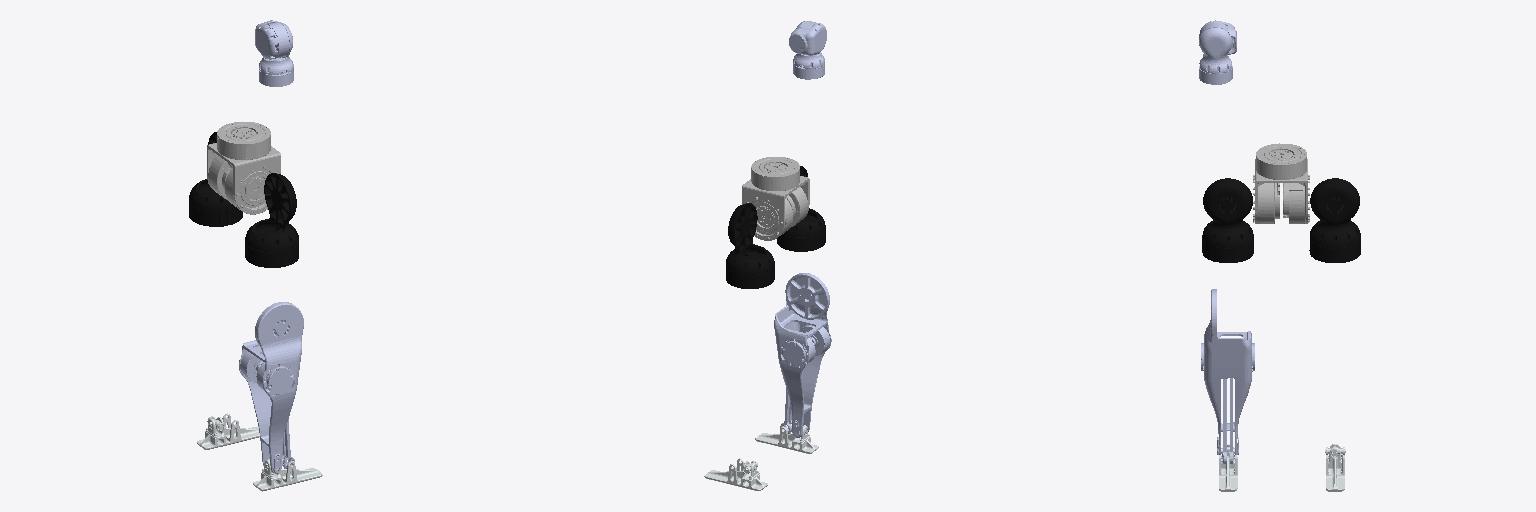
The robot description file, URDF, robot "q2":
<?xml version="1.0" encoding="utf-8"?>
<!-- This URDF was automatically created by SolidWorks to URDF Exporter! Originally created by [author] ([email redacted]) 
     Commit Version: 1.6.0-4-g7f85cfe  Build Version: 1.6.7995.38578
     For more information, please see http://wiki.ros.org/sw_urdf_exporter -->

<robot name="q2">
  <mujoco>
    <compiler meshdir="meshes" discardvisual="false" balanceinertia= "true"/>
  </mujoco>
    <!-- [CAUTION] uncomment when convert to mujoco -->
  <!-- <link name="world"></link>
    <joint name="floating_base_joint" type="floating">
      <parent link="world"/>
      <child link="pelvis"/>
    </joint> -->
  
  <link name="pelvis">
    <inertial>
      <origin xyz="0.0000000 0.0000000 -0.0377830" rpy="0 0 0" />
      <mass value="5.0175069" />
      <inertia ixx="0.0180892" ixy="-0.0000001" ixz="0.0000000" iyy="0.0164150" iyz="0.0000000" izz="0.0108703" />
    </inertial>
    <visual>
      <origin xyz="0 0 0" rpy="0 0 0" />
      <geometry>
        <mesh filename="meshes/pelvis.STL" />
      </geometry>
      <material name="">
        <color rgba="0.75294 0.75294 0.75294 1" />
      </material>
    </visual>
    <collision>
      <origin xyz="0 0 0" rpy="0 0 0" />
      <geometry>
        <mesh filename="meshes/pelvis.STL" />
      </geometry>
    </collision>
  </link>
  <link name="left_hip_pitch_link">
    <inertial>
      <origin xyz="-0.0161091 0.0642172 0.0000000" rpy="0 0 0" />
      <mass value="1.871603" />
      <inertia ixx="0.0035823" ixy="0.0000353" ixz="-0.0000001" iyy="0.0021368" iyz="-0.0000023" izz="0.0024927" />
    </inertial>
    <visual>
      <origin xyz="0 0 0" rpy="0 0 0" />
      <geometry>
        <mesh filename="meshes/left_hip_pitch_link.STL" />
      </geometry>
      <material name="">
        <color rgba="0.89804 0.91765 0.92941 1" />
      </material>
    </visual>
    <collision>
      <origin xyz="0 0 0" rpy="0 0 0" />
      <geometry>
        <mesh filename="meshes/left_hip_pitch_link.STL" />
      </geometry>
    </collision>
  </link>
  <joint name="left_hip_pitch_joint" type="revolute">
    <origin xyz="0 0.056 -0.0685" rpy="0 0 0" />
    <parent link="pelvis" />
    <child link="left_hip_pitch_link" />
    <axis xyz="0 1 0" />
    <limit lower="-2.35" upper="2.35" effort="88" velocity="30" />
  </joint>
  <link name="left_hip_roll_link">
    <inertial>
      <origin xyz="-0.0070439 -0.0000032 -0.0909871" rpy="0 0 0" />
      <mass value="2.1194499" />
      <inertia ixx="0.0063862" ixy="0.0000000" ixz="-0.0009050" iyy="0.0063266" iyz="0.0000001" izz="0.0036912" />
    </inertial>
    <visual>
      <origin xyz="0 0 0" rpy="0 0 0" />
      <geometry>
        <mesh filename="meshes/left_hip_roll_link.STL" />
      </geometry>
      <material name="">
        <color rgba="0.11373 0.11373 0.11373 1" />
      </material>
    </visual>
    <!-- <collision>
      <origin
        xyz="0 0 0"
        rpy="0 0 0" />
      <geometry>
        <mesh
          filename="meshes/left_hip_roll_link.STL" />
      </geometry>
    </collision> -->
    
  </link>
  <joint name="left_hip_roll_joint" type="revolute">
    <origin xyz="0.012 0.069 0" rpy="0 0 0" />
    <parent link="left_hip_pitch_link" />
    <child link="left_hip_roll_link" />
    <axis xyz="1 0 0" />
    <limit lower="-0.43" upper="2.9" effort="88" velocity="30" />
  </joint>
  <link name="left_hip_yaw_link">
    <inertial>
      <origin xyz="0.0030582 -0.0028146 -0.1280729" rpy="0 0 0" />
      <mass value="2.4878491" />
      <inertia ixx="0.0107399" ixy="0.0000195" ixz="-0.0002983" iyy="0.0117862" iyz="-0.0001408" izz="0.0038670" />
    </inertial>
    <visual>
      <origin xyz="0 0 0" rpy="0 0 0" />
      <geometry>
        <mesh filename="meshes/left_hip_yaw_link.STL" />
      </geometry>
      <material name="">
        <color rgba="0.89804 0.91765 0.92941 1" />
      </material>
    </visual>
    <collision>
      <origin xyz="0 0 0" rpy="0 0 0" />
      <geometry>
        <mesh filename="meshes/left_hip_yaw_link.STL" />
      </geometry>
    </collision>
  </link>
  <joint name="left_hip_yaw_joint" type="revolute">
    <origin xyz="-0.012 0 -0.1395" rpy="0 0 0" />
    <parent link="left_hip_roll_link" />
    <child link="left_hip_yaw_link" />
    <axis xyz="0 0 1" />
    <limit lower="-2.8" upper="2.8" effort="88" velocity="30" />
  </joint>
  <link name="left_knee_link">
    <inertial>
      <origin xyz="0.0016871 -0.0202758 -0.1209121" rpy="0 0 0" />
      <mass value="2.1687705" />
      <inertia ixx="0.0161842" ixy="0.0000620" ixz="0.0003116" iyy="0.0144942" iyz="-0.0012327" izz="0.0039929" />
    </inertial>
    <visual>
      <origin xyz="0 0 0" rpy="0 0 0" />
      <geometry>
        <mesh filename="meshes/left_knee_link.STL" />
      </geometry>
      <material name="">
        <color rgba="0.79216 0.81961 0.93333 1" />
      </material>
    </visual>
    <!-- <collision>
      <origin
        xyz="0 0 0"
        rpy="0 0 0" />
      <geometry>
        <mesh
          filename="meshes/left_knee_link.STL" />
      </geometry>
    </collision> -->
    
  </link>
  <joint name="left_knee_joint" type="revolute">
    <origin xyz="0 0.0255 -0.1605" rpy="0 0 0" />
    <parent link="left_hip_yaw_link" />
    <child link="left_knee_link" />
    <axis xyz="0 1 0" />
    <limit lower="-0.26" upper="2.05" effort="100" velocity="30" />
  </joint>
  <link name="left_ankle_pitch_link">
    <inertial>
      <origin xyz="0.0000000 0.0000000 0.0000279" rpy="0 0 0" />
      <mass value="0.0312897" />
      <inertia ixx="0.0000068" ixy="0.0000000" ixz="0.0000000" iyy="0.0000016" iyz="0.0000000" izz="0.0000073" />
    </inertial>
    <visual>
      <origin xyz="0 0 0" rpy="0 0 0" />
      <geometry>
        <mesh filename="meshes/left_ankle_pitch_link.STL" />
      </geometry>
      <material name="">
        <color rgba="0.89804 0.91765 0.92941 1" />
      </material>
    </visual>
    <collision>
      <origin xyz="0 0 0" rpy="0 0 0" />
      <geometry>
        <mesh filename="meshes/left_ankle_pitch_link.STL" />
      </geometry>
    </collision>
  </link>
  <joint name="left_ankle_pitch_joint" type="revolute">
    <origin xyz="0 -0.0255 -0.35" rpy="0 0 0" />
    <parent link="left_knee_link" />
    <child link="left_ankle_pitch_link" />
    <axis xyz="0 1 0" />
    <limit lower="-0.6" upper="0.5" effort="15" velocity="30" />
  </joint>
  <link name="left_ankle_roll_link">
    <inertial>
      <origin xyz="0.0300502 0.0000000 -0.0348065" rpy="0 0 0" />
      <mass value="0.445514" />
      <inertia ixx="0.0001691" ixy="0.0000000" ixz="0.0000581" iyy="0.0007648" iyz="0.0000000" izz="0.0007313" />
    </inertial>
    <visual>
      <origin xyz="0 0 0" rpy="0 0 0" />
      <geometry>
        <mesh filename="meshes/left_ankle_roll_link.STL" />
      </geometry>
      <material name="">
        <color rgba="0.89804 0.91765 0.92941 1" />
      </material>
    </visual>
    <collision>
      <origin xyz="0 0 0" rpy="0 0 0" />
      <geometry>
        <mesh filename="meshes/left_ankle_roll_link.STL" />
      </geometry>
    </collision>
  </link>
  <joint name="left_ankle_roll_joint" type="revolute">
    <origin xyz="0 0 0" rpy="0 0 0" />
    <parent link="left_ankle_pitch_link" />
    <child link="left_ankle_roll_link" />
    <axis xyz="1 0 0" />
    <limit lower="-0.25" upper="0.25" effort="15" velocity="30" />
  </joint>
  <link name="right_hip_pitch_link">
    <inertial>
      <origin xyz="-0.0161085 -0.0642181 0.0000000" rpy="0 0 0" />
      <mass value="1.8719556" />
      <inertia ixx="0.0035829" ixy="-0.0000353" ixz="0.0000001" iyy="0.0021371" iyz="-0.0000023" izz="0.0024930" />
    </inertial>
    <visual>
      <origin xyz="0 0 0" rpy="0 0 0" />
      <geometry>
        <mesh filename="meshes/right_hip_pitch_link.STL" />
      </geometry>
      <material name="">
        <color rgba="0.898039215686275 0.917647058823529 0.929411764705882 1" />
      </material>
    </visual>
    <collision>
      <origin xyz="0 0 0" rpy="0 0 0" />
      <geometry>
        <mesh filename="meshes/right_hip_pitch_link.STL" />
      </geometry>
    </collision>
  </link>
  <joint name="right_hip_pitch_joint" type="revolute">
    <origin xyz="0 -0.056 -0.0685" rpy="0 0 0" />
    <parent link="pelvis" />
    <child link="right_hip_pitch_link" />
    <axis xyz="0 1 0" />
    <limit lower="-2.35" upper="2.35" effort="88" velocity="30" />
  </joint>
  <link name="right_hip_roll_link">
    <inertial>
      <origin xyz="-0.0070439 -0.0000032 -0.0909871" rpy="0 0 0" />
      <mass value="2.1194499" />
      <inertia ixx="0.0063862" ixy="0.0000000" ixz="-0.0009050" iyy="0.0063266" iyz="0.0000001" izz="0.0036912" />
    </inertial>
    <visual>
      <origin xyz="0 0 0" rpy="0 0 0" />
      <geometry>
        <mesh filename="meshes/right_hip_roll_link.STL" />
      </geometry>
      <material name="">
        <color rgba="0.11373 0.11373 0.11373 1" />
      </material>
    </visual>
    <!-- <collision>
      <origin
        xyz="0 0 0"
        rpy="0 0 0" />
      <geometry>
        <mesh
          filename="meshes/right_hip_roll_link.STL" />
      </geometry>
    </collision> -->
    
  </link>
  <joint name="right_hip_roll_joint" type="revolute">
    <origin xyz="0.012 -0.069 0" rpy="0 0 0" />
    <parent link="right_hip_pitch_link" />
    <child link="right_hip_roll_link" />
    <axis xyz="1 0 0" />
    <limit lower="-2.9" upper="0.43" effort="88" velocity="30" />
  </joint>
  <link name="right_hip_yaw_link">
    <inertial>
      <origin xyz="0.0030618 0.0028152 -0.1281604" rpy="0 0 0" />
      <mass value="2.4854678" />
      <inertia ixx="0.0107105" ixy="-0.0000196" ixz="-0.0002990" iyy="0.0117564" iyz="0.0001401" izz="0.0038603" />
    </inertial>
    <visual>
      <origin xyz="0 0 0" rpy="0 0 0" />
      <geometry>
        <mesh filename="meshes/right_hip_yaw_link.STL" />
      </geometry>
      <material name="">
        <color rgba="0.89804 0.91765 0.92941 1" />
      </material>
    </visual>
    <collision>
      <origin xyz="0 0 0" rpy="0 0 0" />
      <geometry>
        <mesh filename="meshes/right_hip_yaw_link.STL" />
      </geometry>
    </collision>
  </link>
  <joint name="right_hip_yaw_joint" type="revolute">
    <origin xyz="-0.012 0 -0.1395" rpy="0 0 0" />
    <parent link="right_hip_roll_link" />
    <child link="right_hip_yaw_link" />
    <axis xyz="0 0 1" />
    <limit lower="-2.8" upper="2.8" effort="88" velocity="30" />
  </joint>
  <link name="right_knee_link">
    <inertial>
      <origin xyz="0.0016703 0.0200408 -0.1207901" rpy="0 0 0" />
      <mass value="2.1688182" />
      <inertia ixx="0.0162684" ixy="0.0000173" ixz="0.0003081" iyy="0.0145337" iyz="0.0013876" izz="0.0040332" />
    </inertial>
    <visual>
      <origin xyz="0 0 0" rpy="0 0 0" />
      <geometry>
        <mesh filename="meshes/right_knee_link.STL" />
      </geometry>
      <material name="">
        <color rgba="0.79216 0.81961 0.93333 1" />
      </material>
    </visual>
    <!-- <collision>
      <origin
        xyz="0 0 0"
        rpy="0 0 0" />
      <geometry>
        <mesh
          filename="meshes/right_knee_link.STL" />
      </geometry>
    </collision> -->
    
  </link>
  <joint name="right_knee_joint" type="revolute">
    <origin xyz="0 -0.0255 -0.1605" rpy="0 0 0" />
    <parent link="right_hip_yaw_link" />
    <child link="right_knee_link" />
    <axis xyz="0 1 0" />
    <limit lower="-0.26" upper="2.05" effort="100" velocity="30" />
  </joint>
  <link name="right_ankle_pitch_link">
    <inertial>
      <origin xyz="0.0000000 0.0000000 0.0000279" rpy="0 0 0" />
      <mass value="0.0312897" />
      <inertia ixx="0.0000068" ixy="0.0000000" ixz="0.0000000" iyy="0.0000016" iyz="0.0000000" izz="0.0000073" />
    </inertial>
    <visual>
      <origin xyz="0 0 0" rpy="0 0 0" />
      <geometry>
        <mesh filename="meshes/right_ankle_pitch_link.STL" />
      </geometry>
      <material name="">
        <color rgba="0.898039215686275 0.917647058823529 0.929411764705882 1" />
      </material>
    </visual>
    <collision>
      <origin xyz="0 0 0" rpy="0 0 0" />
      <geometry>
        <mesh filename="meshes/right_ankle_pitch_link.STL" />
      </geometry>
    </collision>
  </link>
  <joint name="right_ankle_pitch_joint" type="revolute">
    <origin xyz="0 0.0255 -0.35" rpy="0 0 0" />
    <parent link="right_knee_link" />
    <child link="right_ankle_pitch_link" />
    <axis xyz="0 1 0" />
    <limit lower="-0.6" upper="0.5" effort="15" velocity="30" />
  </joint>
  <link name="right_ankle_roll_link">
    <inertial>
      <origin xyz="0.0300502 0.0000000 -0.0348065" rpy="0 0 0" />
      <mass value="0.445514" />
      <inertia ixx="0.0001691" ixy="0.0000000" ixz="0.0000581" iyy="0.0007648" iyz="0.0000000" izz="0.0007313" />
    </inertial>
    <visual>
      <origin xyz="0 0 0" rpy="0 0 0" />
      <geometry>
        <mesh filename="meshes/right_ankle_roll_link.STL" />
      </geometry>
      <material name="">
        <color rgba="0.89804 0.91765 0.92941 1" />
      </material>
    </visual>
    <collision>
      <origin xyz="0 0 0" rpy="0 0 0" />
      <geometry>
        <mesh filename="meshes/right_ankle_roll_link.STL" />
      </geometry>
    </collision>
  </link>
  <joint name="right_ankle_roll_joint" type="revolute">
    <origin xyz="0 0 0" rpy="0 0 0" />
    <parent link="right_ankle_pitch_link" />
    <child link="right_ankle_roll_link" />
    <axis xyz="1 0 0" />
    <limit lower="-0.25" upper="0.25" effort="15" velocity="30" />
  </joint>
  <link name="torso_link">
    <inertial>
      <origin xyz="0.0004629 -0.0000906 0.1938121" rpy="0 0 0" />
      <mass value="13.5166565" />
      <inertia ixx="0.2213687" ixy="-0.0002053" ixz="0.0002846" iyy="0.1979885" iyz="-0.0000201" izz="0.0923944" />
    </inertial>
    <visual>
      <origin xyz="0 0 0" rpy="0 0 0" />
      <geometry>
        <mesh filename="meshes/torso_link.STL" />
      </geometry>
      <material name="">
        <color rgba="0.75294 0.75294 0.75294 1" />
      </material>
    </visual>
    <collision>
      <origin xyz="0 0 0" rpy="0 0 0" />
      <geometry>
        <mesh filename="meshes/torso_link.STL" />
      </geometry>
    </collision>
  </link>
  <joint name="torso_joint" type="revolute">
    <origin xyz="0 0 0.046" rpy="0 0 0" />
    <parent link="pelvis" />
    <child link="torso_link" />
    <axis xyz="0 0 1" />
    <limit lower="-1.1" upper="1.1" effort="88" velocity="30" />
  </joint>
  <link name="left_shoulder_pitch_link">
    <inertial>
      <origin xyz="-0.0156870 0.0446137 0.0003011" rpy="0 0 0" />
      <mass value="0.5474344" />
      <inertia ixx="0.0002167" ixy="0.0000089" ixz="-0.0000002" iyy="0.0001337" iyz="-0.0000007" izz="0.0001874" />
    </inertial>
    <visual>
      <origin xyz="0 0 0" rpy="0 0 0" />
      <geometry>
        <mesh filename="meshes/left_shoulder_pitch_link.STL" />
      </geometry>
      <material name="">
        <color rgba="0.79216 0.81961 0.93333 1" />
      </material>
    </visual>
    <collision>
      <origin xyz="0 0 0" rpy="0 0 0" />
      <geometry>
        <mesh filename="meshes/left_shoulder_pitch_link.STL" />
      </geometry>
    </collision>
  </link>
  <joint name="left_shoulder_pitch_joint" type="revolute">
    <origin xyz="0 0.1045 0.2905" rpy="0 0 0" />
    <parent link="torso_link" />
    <child link="left_shoulder_pitch_link" />
    <axis xyz="0 1 0" />
    <limit lower="-3.14" upper="1.57" effort="50" velocity="30" />
  </joint>
  <link name="left_shoulder_roll_link">
    <inertial>
      <origin xyz="-0.0127037 -0.0001940 -0.0659292" rpy="0 0 0" />
      <mass value="0.5461248" />
      <inertia ixx="0.0004720" ixy="-0.0000003" ixz="-0.0001010" iyy="0.0004811" iyz="-0.0000016" izz="0.0001598" />
    </inertial>
    <visual>
      <origin xyz="0 0 0" rpy="0 0 0" />
      <geometry>
        <mesh filename="meshes/left_shoulder_roll_link.STL" />
      </geometry>
      <material name="">
        <color rgba="0.79216 0.81961 0.93333 1" />
      </material>
    </visual>
    <collision>
      <origin xyz="0 0 0" rpy="0 0 0" />
      <geometry>
        <mesh filename="meshes/left_shoulder_roll_link.STL" />
      </geometry>
    </collision>
  </link>
  <joint name="left_shoulder_roll_joint" type="revolute">
    <origin xyz="0.01 0.049 0" rpy="0 0 0" />
    <parent link="left_shoulder_pitch_link" />
    <child link="left_shoulder_roll_link" />
    <axis xyz="1 0 0" />
    <limit lower="-0.01" upper="3.14" effort="15" velocity="30" />
  </joint>
  <link name="left_shoulder_yaw_link">
    <inertial>
      <origin xyz="0.0032500 0.0002300 -0.1178721" rpy="0 0 0" />
      <mass value="0.7134352" />
      <inertia ixx="0.0021080" ixy="-0.0000082" ixz="-0.0000640" iyy="0.0021270" iyz="-0.0000181" izz="0.0003381" />
    </inertial>
    <visual>
      <origin xyz="0 0 0" rpy="0 0 0" />
      <geometry>
        <mesh filename="meshes/left_shoulder_yaw_link.STL" />
      </geometry>
      <material name="">
        <color rgba="0.79216 0.81961 0.93333 1" />
      </material>
    </visual>
    <collision>
      <origin xyz="0 0 0" rpy="0 0 0" />
      <geometry>
        <mesh filename="meshes/left_shoulder_yaw_link.STL" />
      </geometry>
    </collision>
  </link>
  <joint name="left_shoulder_yaw_joint" type="revolute">
    <origin xyz="-0.016 0 -0.101" rpy="0 0 0" />
    <parent link="left_shoulder_roll_link" />
    <child link="left_shoulder_yaw_link" />
    <axis xyz="0 0 1" />
    <limit lower="-0.8" upper="1.2" effort="15" velocity="30" />
  </joint>
  <link name="left_elbow_link">
    <inertial>
      <origin xyz="0.0914047 0.0199364 -0.0026722" rpy="0 0 0" />
      <mass value="0.3282012" />
      <inertia ixx="0.0003673" ixy="-0.0002004" ixz="-0.0000353" iyy="0.0013996" iyz="0.0000117" izz="0.0014536" />
    </inertial>
    <visual>
      <origin xyz="0 0 0" rpy="0 0 0" />
      <geometry>
        <mesh filename="meshes/left_elbow_link.STL" />
      </geometry>
      <material name="">
        <color rgba="0.89804 0.91765 0.92941 1" />
      </material>
    </visual>
    <collision>
      <origin xyz="0 0 0" rpy="0 0 0" />
      <geometry>
        <mesh filename="meshes/left_elbow_link.STL" />
      </geometry>
    </collision>
  </link>
  <joint name="left_elbow_joint" type="revolute">
    <origin xyz="0 -0.027 -0.149" rpy="0 0 0" />
    <parent link="left_shoulder_yaw_link" />
    <child link="left_elbow_link" />
    <axis xyz="0 1 0" />
    <limit lower="-0.95" upper="1.6" effort="15" velocity="30" />
  </joint>
  <link name="right_shoulder_pitch_link">
    <inertial>
      <origin xyz="-0.0156870 -0.0446137 -0.0003011" rpy="0 0 0" />
      <mass value="0.5474344" />
      <inertia ixx="0.0002167" ixy="-0.0000089" ixz="0.0000002" iyy="0.0001337" iyz="-0.0000007" izz="0.0001874" />
    </inertial>
    <visual>
      <origin xyz="0 0 0" rpy="0 0 0" />
      <geometry>
        <mesh filename="meshes/right_shoulder_pitch_link.STL" />
      </geometry>
      <material name="">
        <color rgba="0.79216 0.81961 0.93333 1" />
      </material>
    </visual>
    <collision>
      <origin xyz="0 0 0" rpy="0 0 0" />
      <geometry>
        <mesh filename="meshes/right_shoulder_pitch_link.STL" />
      </geometry>
    </collision>
  </link>
  <joint name="right_shoulder_pitch_joint" type="revolute">
    <origin xyz="0 -0.1045 0.2905" rpy="0 0 0" />
    <parent link="torso_link" />
    <child link="right_shoulder_pitch_link" />
    <axis xyz="0 1 0" />
    <limit lower="-3.14" upper="1.57" effort="50" velocity="30" />
  </joint>
  <link name="right_shoulder_roll_link">
    <inertial>
      <origin xyz="-0.0127037 -0.0001940 -0.0659292" rpy="0 0 0" />
      <mass value="0.5461248" />
      <inertia ixx="0.0004720" ixy="-0.0000003" ixz="-0.0001010" iyy="0.0004811" iyz="-0.0000016" izz="0.0001598" />
    </inertial>
    <visual>
      <origin xyz="0 0 0" rpy="0 0 0" />
      <geometry>
        <mesh filename="meshes/right_shoulder_roll_link.STL" />
      </geometry>
      <material name="">
        <color rgba="0.79216 0.81961 0.93333 1" />
      </material>
    </visual>
    <collision>
      <origin xyz="0 0 0" rpy="0 0 0" />
      <geometry>
        <mesh filename="meshes/right_shoulder_roll_link.STL" />
      </geometry>
    </collision>
  </link>
  <joint name="right_shoulder_roll_joint" type="revolute">
    <origin xyz="0.01 -0.049 0" rpy="0 0 0" />
    <parent link="right_shoulder_pitch_link" />
    <child link="right_shoulder_roll_link" />
    <axis xyz="1 0 0" />
    <limit lower="-3.4" upper="0.01" effort="15" velocity="30" />
  </joint>
  <link name="right_shoulder_yaw_link">
    <inertial>
      <origin xyz="0.0028726 -0.0002293 -0.1176072" rpy="0 0 0" />
      <mass value="0.7134571" />
      <inertia ixx="0.0020963" ixy="0.0000089" ixz="-0.0000719" iyy="0.0021169" iyz="0.0000175" izz="0.0003397" />
    </inertial>
    <visual>
      <origin xyz="0 0 0" rpy="0 0 0" />
      <geometry>
        <mesh filename="meshes/right_shoulder_yaw_link.STL" />
      </geometry>
      <material name="">
        <color rgba="0.79216 0.81961 0.93333 1" />
      </material>
    </visual>
    <collision>
      <origin xyz="0 0 0" rpy="0 0 0" />
      <geometry>
        <mesh filename="meshes/right_shoulder_yaw_link.STL" />
      </geometry>
    </collision>
  </link>
  <joint name="right_shoulder_yaw_joint" type="revolute">
    <origin xyz="-0.016 0 -0.101" rpy="0 0 0" />
    <parent link="right_shoulder_roll_link" />
    <child link="right_shoulder_yaw_link" />
    <axis xyz="0 0 1" />
    <limit lower="-1.2" upper="0.8" effort="15" velocity="30" />
  </joint>
  <link name="right_elbow_link">
    <inertial>
      <origin xyz="0.0914095 0.0340633 -0.0026701" rpy="0 0 0" />
      <mass value="0.32819" />
      <inertia ixx="0.0003673" ixy="0.0002004" ixz="-0.0000353" iyy="0.0013994" iyz="-0.0000117" izz="0.0014534" />
    </inertial>
    <visual>
      <origin xyz="0 0 0" rpy="0 0 0" />
      <geometry>
        <mesh filename="meshes/right_elbow_link.STL" />
      </geometry>
      <material name="">
        <color rgba="0.89804 0.91765 0.92941 1" />
      </material>
    </visual>
    <collision>
      <origin xyz="0 0 0" rpy="0 0 0" />
      <geometry>
        <mesh filename="meshes/right_elbow_link.STL" />
      </geometry>
    </collision>
  </link>
  <joint name="right_elbow_joint" type="revolute">
    <origin xyz="0 0.027 -0.149" rpy="0 0 0" />
    <parent link="right_shoulder_yaw_link" />
    <child link="right_elbow_link" />
    <axis xyz="0 1 0" />
    <limit lower="-0.95" upper="1.6" effort="15" velocity="30" />
  </joint>
</robot>

--- Render facts (derived) ---
The picture shows the robot from 3 angles, left to right: view 1: azimuth 30°, elevation 25°; view 2: azimuth 150°, elevation 25°; view 3: azimuth 270°, elevation 25°; orthographic projection.
Model q2 with 22 links and 21 joints (21 revolute), rooted at pelvis, posed every joint at zero.
Links seen in each view (by area): view 1: right_knee_link, pelvis, right_hip_roll_link, left_hip_roll_link, left_ankle_roll_link, right_shoulder_pitch_link, right_shoulder_roll_link, right_ankle_roll_link; view 2: right_knee_link, pelvis, left_hip_roll_link, right_hip_roll_link, right_shoulder_pitch_link, left_ankle_roll_link, right_ankle_roll_link, right_shoulder_roll_link; view 3: right_knee_link, pelvis, right_hip_roll_link, left_hip_roll_link, right_shoulder_roll_link, left_ankle_roll_link, right_ankle_roll_link.
Boxes of the visible links, box(x1,y1,x2,y2) form: right_knee_link: box(239, 302, 303, 473); pelvis: box(207, 122, 280, 214); right_hip_roll_link: box(245, 173, 298, 267); left_hip_roll_link: box(189, 132, 242, 226); left_ankle_roll_link: box(197, 413, 259, 449); right_shoulder_pitch_link: box(255, 20, 289, 59); right_shoulder_roll_link: box(259, 22, 293, 86); right_ankle_roll_link: box(253, 457, 322, 491); right_knee_link: box(774, 273, 831, 437); pelvis: box(742, 157, 809, 240); left_hip_roll_link: box(726, 203, 774, 288); right_hip_roll_link: box(777, 166, 825, 251); right_shoulder_pitch_link: box(789, 21, 826, 55); left_ankle_roll_link: box(704, 458, 767, 490); right_ankle_roll_link: box(755, 423, 818, 453); right_shoulder_roll_link: box(793, 21, 824, 79); right_knee_link: box(1201, 289, 1254, 463); pelvis: box(1253, 143, 1309, 223); right_hip_roll_link: box(1202, 178, 1253, 262); left_hip_roll_link: box(1309, 178, 1360, 262); right_shoulder_roll_link: box(1199, 28, 1232, 84); left_ankle_roll_link: box(1326, 444, 1344, 491); right_ankle_roll_link: box(1219, 444, 1237, 491).
Size in the robot's own frame: 0.18 by 0.3777 by 1.14 metres.
Meshes: 22 distinct files referenced, 10 mesh visuals loaded (10 binary STL); not drawn: 12 (reference not matched to a file when rendering).